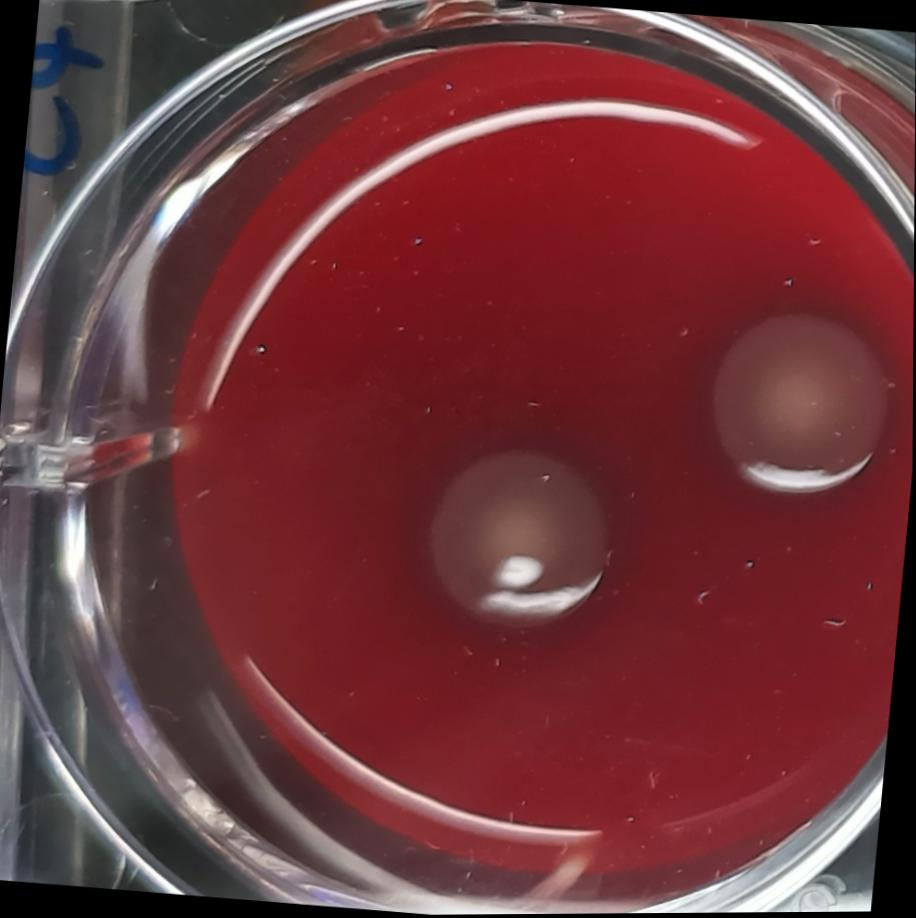vangil: (401, 412, 635, 663), (672, 283, 905, 526)
